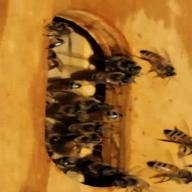Bee: (126, 50, 176, 83), (151, 155, 192, 186), (157, 122, 192, 151)
